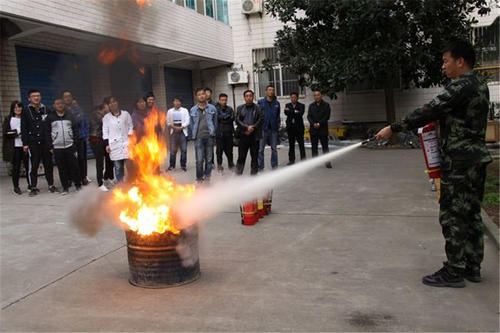fire: (113, 111, 196, 235)
